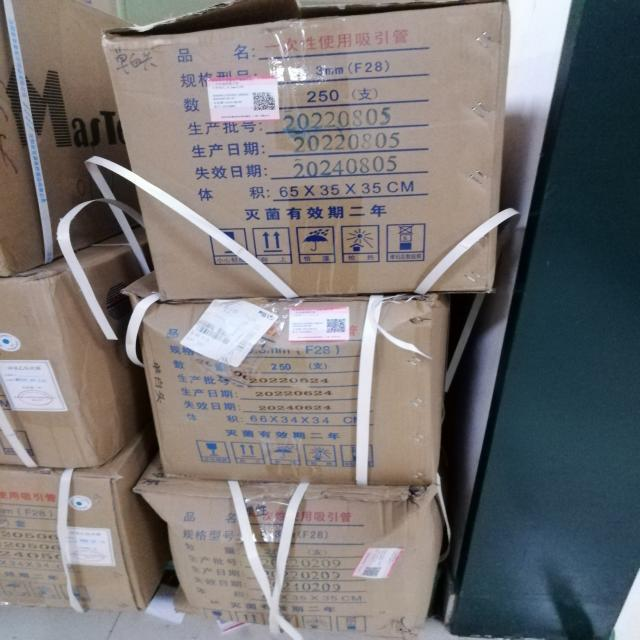box: (106, 0, 510, 299), (133, 264, 448, 484), (133, 454, 448, 640), (0, 227, 157, 474), (0, 0, 142, 273), (0, 427, 168, 614)
